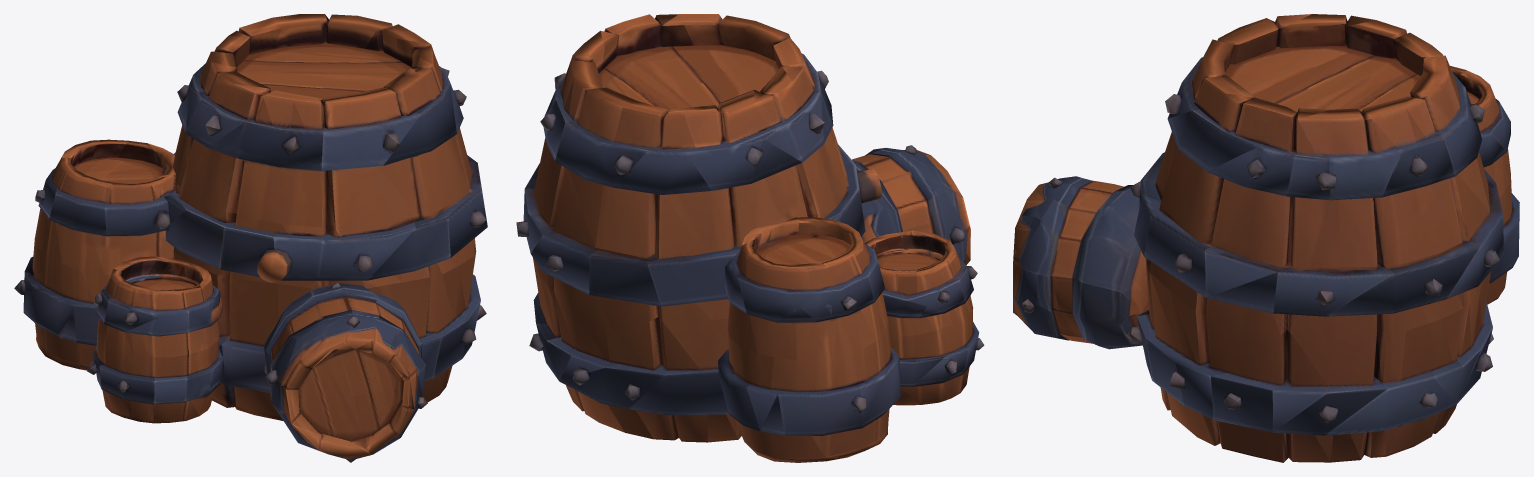
The model's file is env_barrelstack.glb.
The picture shows the model from 3 angles, left to right: view 1: azimuth 30°, elevation 25°; view 2: azimuth 150°, elevation 25°; view 3: azimuth 270°, elevation 25°; orthographic projection. The views are drawn at different scales.
Size of the model in its own units: 0.9785 by 0.7519 by 1.
Materials: 1 (1 with a texture image).
